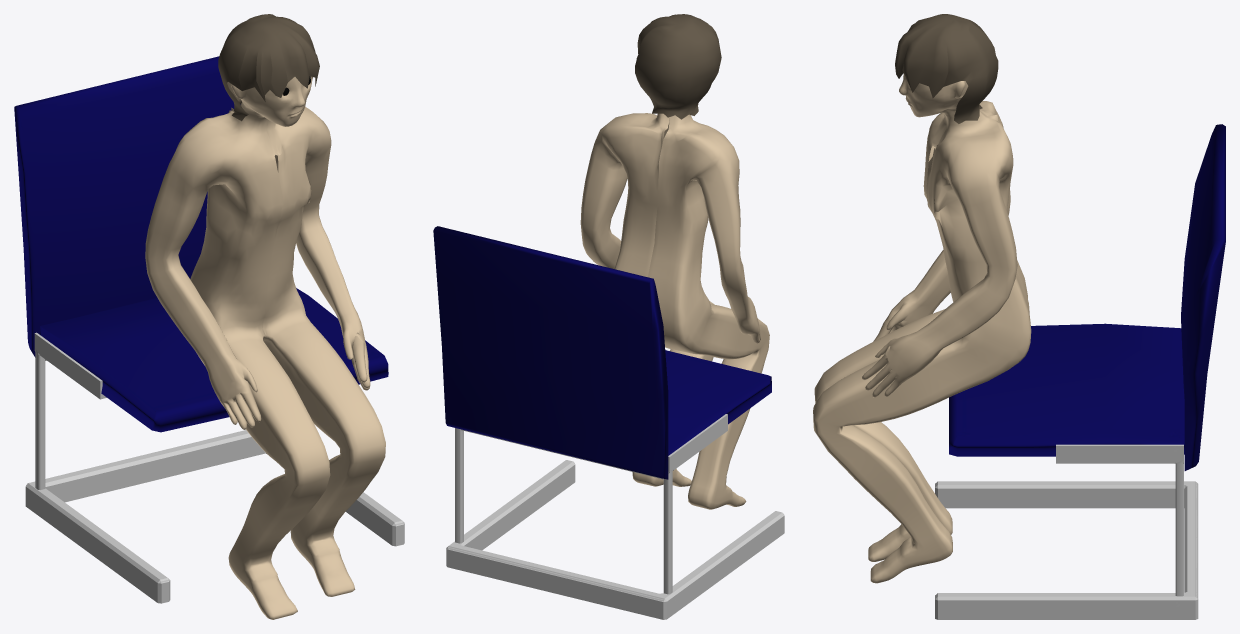
Rendered from normalpose.fbx.
The picture shows the model from 3 angles, left to right: view 1: azimuth 30°, elevation 25°; view 2: azimuth 150°, elevation 25°; view 3: azimuth 270°, elevation 25°; orthographic projection. The views are drawn at different scales.
Visible parts, largest first — view 1: chair_1:polySurface2, polySurface19, polySurface20, polySurface18; view 2: chair_1:polySurface2, polySurface19, polySurface20, polySurface18; view 3: chair_1:polySurface2, polySurface20, polySurface19, polySurface18.
Part boxes in pixels (<box>): chair_1:polySurface2: <box>14,56,404,603</box>; polySurface19: <box>145,77,330,619</box>; polySurface20: <box>231,76,385,596</box>; polySurface18: <box>218,14,319,121</box>; chair_1:polySurface2: <box>433,226,784,619</box>; polySurface19: <box>648,114,769,509</box>; polySurface20: <box>580,113,714,486</box>; polySurface18: <box>635,14,721,119</box>; chair_1:polySurface2: <box>935,124,1225,619</box>; polySurface20: <box>813,76,1031,583</box>; polySurface19: <box>814,74,1027,561</box>; polySurface18: <box>895,14,998,123</box>.
Bounding box in the file's own units: 6.65 × 14.46 × 9.86.
Materials: 4 (1 with a texture image).
